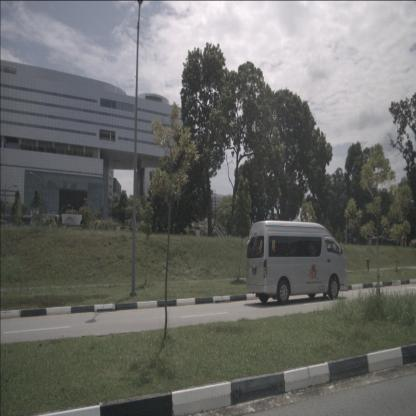vehicle-car: (245, 221, 349, 303)
